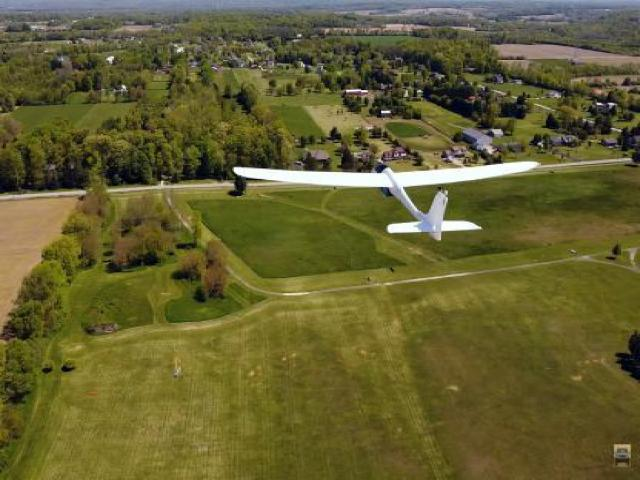uav: (227, 149, 542, 246)
